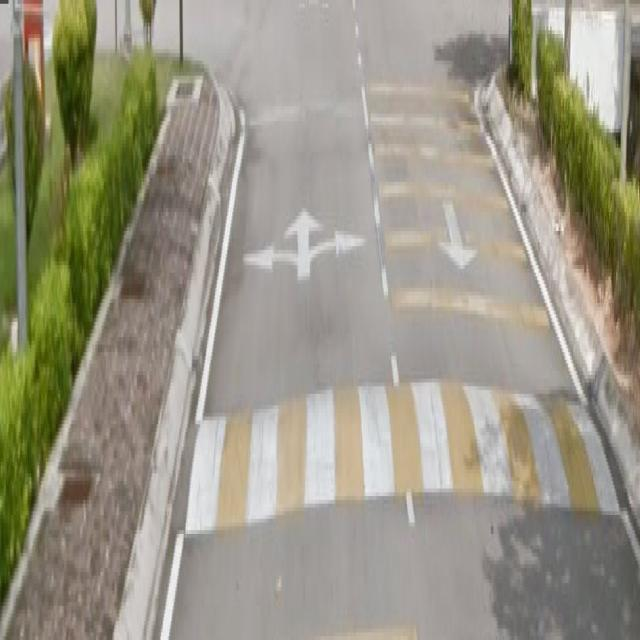speed-bump: (175, 342, 640, 544)
